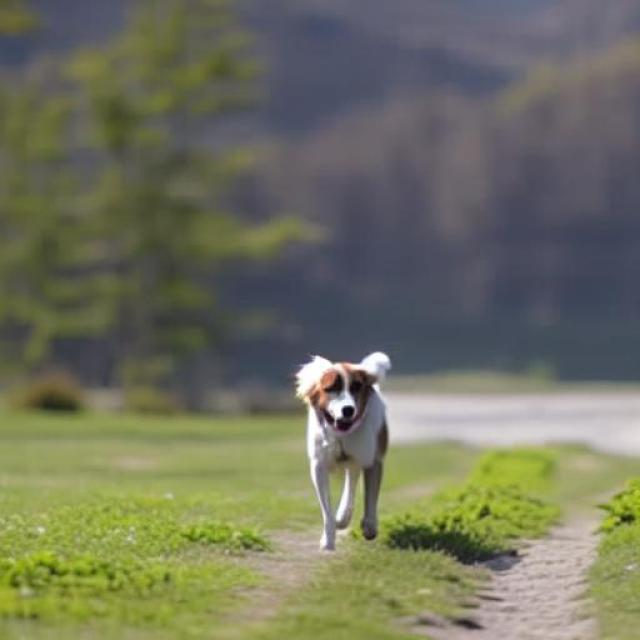Dog: (293, 352, 392, 553)
